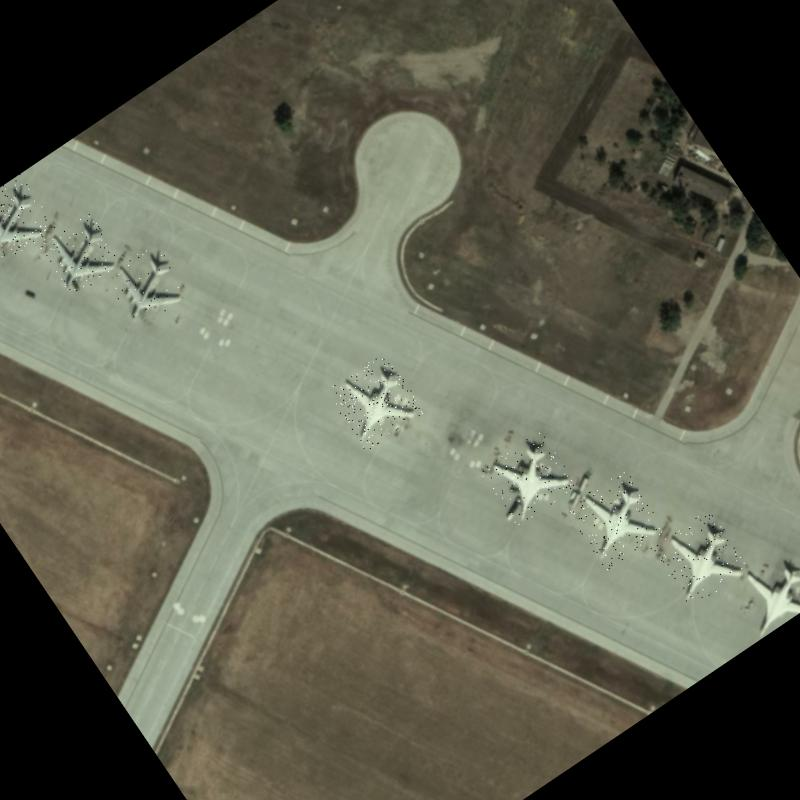A17: (102, 241, 192, 330), (37, 210, 124, 298), (0, 173, 57, 265)
A6: (565, 468, 667, 570), (650, 507, 751, 609), (326, 350, 426, 451), (480, 430, 578, 528), (721, 543, 800, 639)
